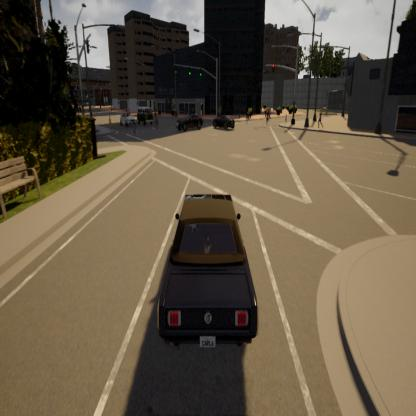Cars: (147, 184, 262, 354), (176, 108, 204, 134), (210, 111, 235, 135), (136, 105, 154, 129), (119, 109, 136, 129)
Pedestrian: (244, 105, 252, 129), (318, 104, 324, 130), (154, 111, 161, 132), (265, 106, 270, 129), (131, 118, 137, 137), (108, 115, 113, 134), (284, 113, 288, 128), (239, 106, 241, 124)
